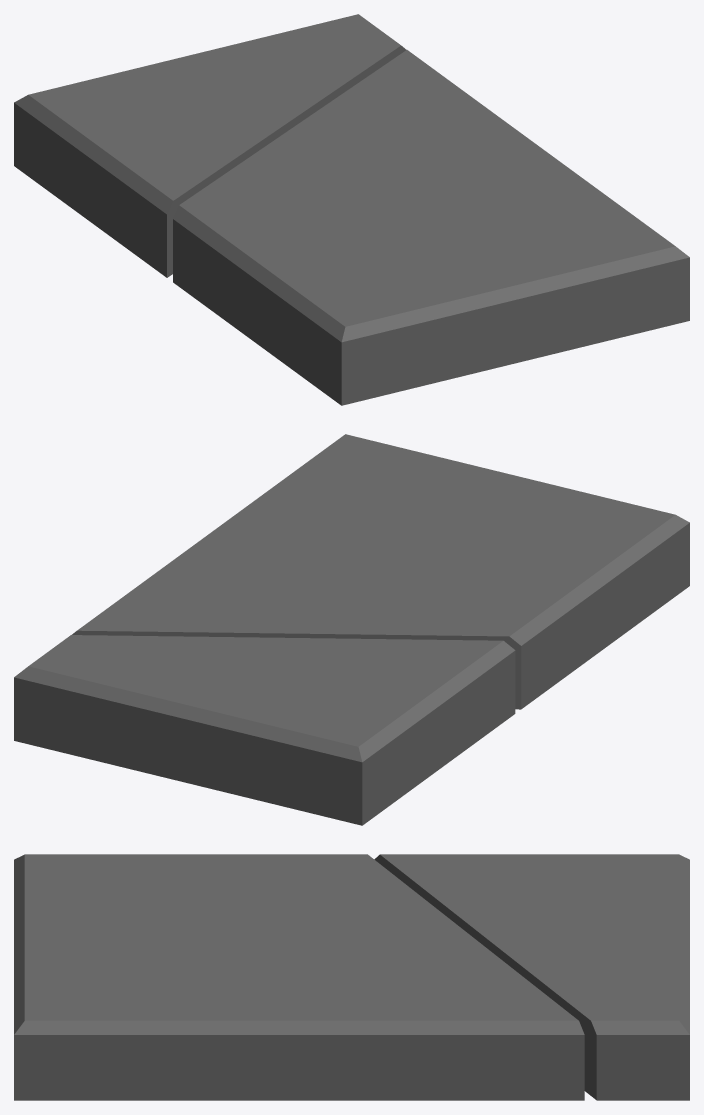
Rendered from Stone_3_3.fbx.
3 renders of one model, top to bottom at view 1: azimuth 30°, elevation 25°; view 2: azimuth 150°, elevation 25°; view 3: azimuth 270°, elevation 25°, orthographic. The views are drawn at different scales.
Parts seen in each view (by area): view 1: Stone_3_3; view 2: Stone_3_3; view 3: Stone_3_3.
Part boxes in pixels (x1,y1,x2,y2): Stone_3_3: [14, 14, 689, 405]; Stone_3_3: [14, 434, 689, 825]; Stone_3_3: [14, 854, 689, 1100].
Size of the model in its own units: 19.69 by 3.94 by 32.06.
